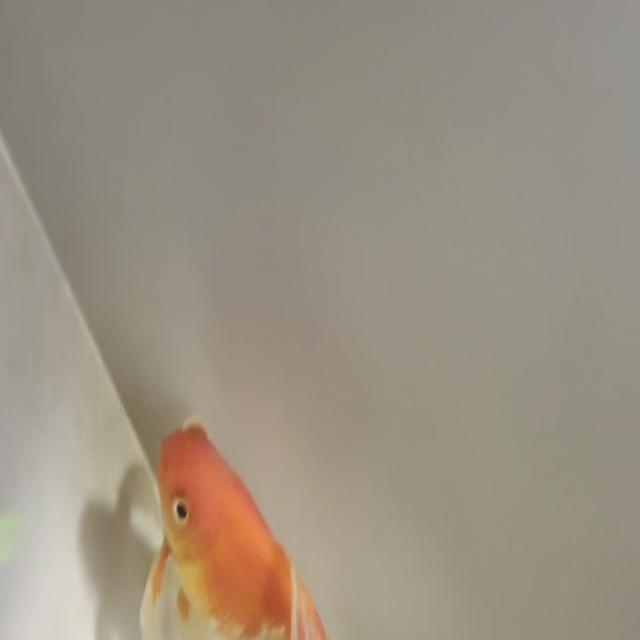fish: (139, 409, 441, 640)
